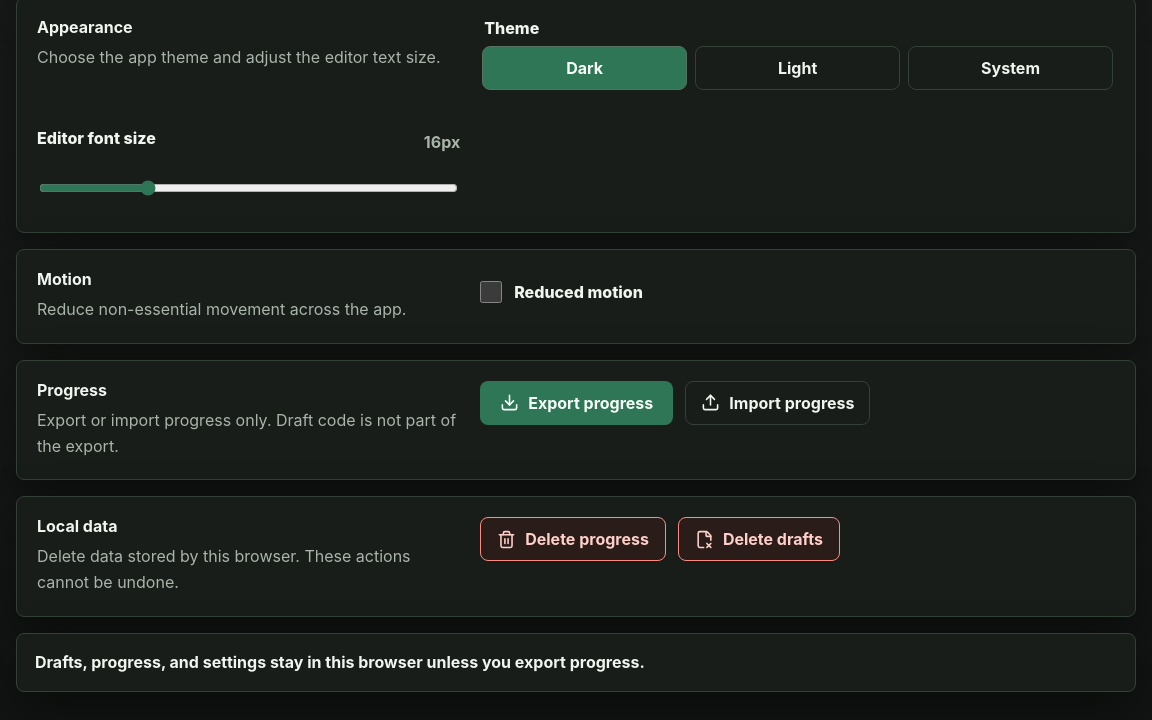
Test: SettingsScreen › deletes progress after confirmation
(page scrolled)
Click the button "Delete progress".
click(573, 539)  # box [480, 517, 666, 561]
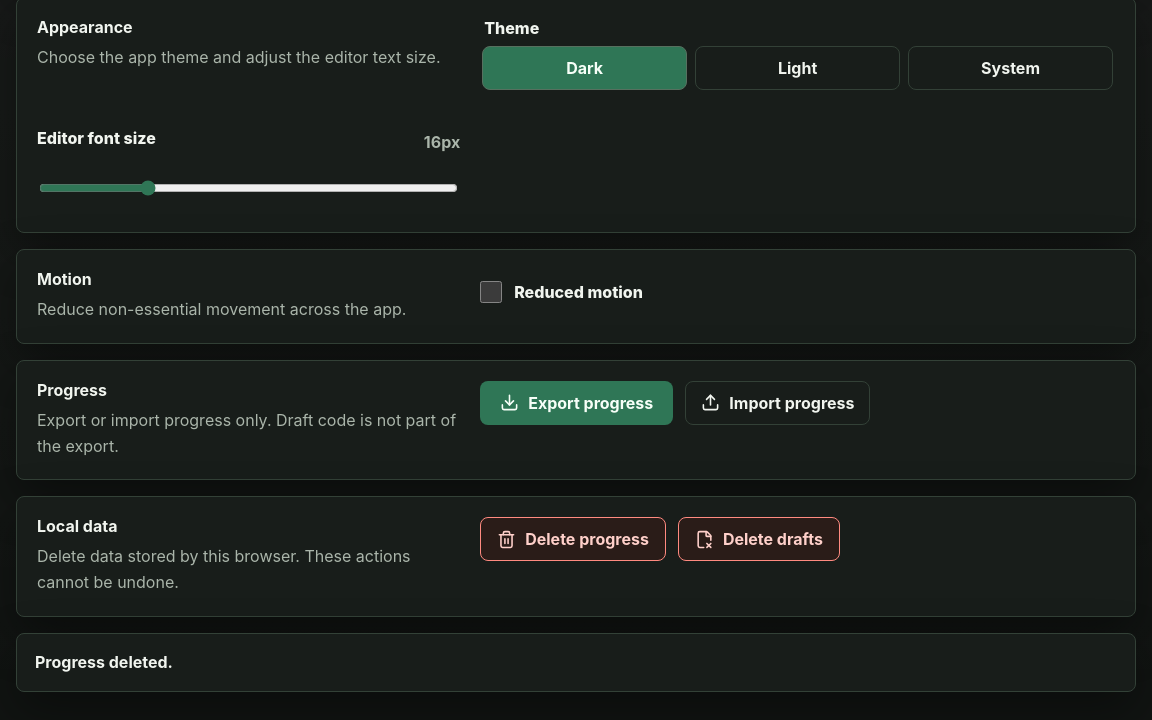
Check: the text "Progress deleted." is shown, box [16, 633, 1136, 692]
